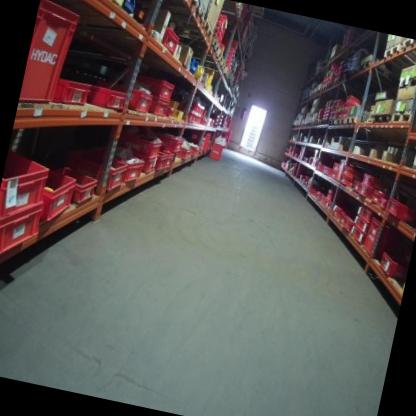pallet: (389, 107, 416, 133), (395, 71, 416, 100), (200, 17, 215, 43), (383, 40, 401, 61), (401, 37, 416, 52), (343, 113, 358, 127), (210, 37, 221, 54), (359, 59, 372, 73), (216, 50, 224, 64), (335, 117, 345, 126), (219, 60, 226, 72), (327, 118, 336, 127), (332, 77, 339, 88), (320, 118, 328, 126), (325, 82, 332, 91), (314, 88, 320, 98), (315, 119, 321, 127), (320, 85, 326, 93)
small_load_carrier: (19, 0, 85, 109), (0, 141, 60, 230), (0, 192, 51, 267), (67, 142, 134, 193), (40, 162, 84, 227), (55, 163, 103, 208), (54, 69, 95, 113), (85, 79, 135, 113), (130, 70, 179, 104), (360, 214, 394, 259), (120, 128, 165, 160), (115, 81, 154, 116), (372, 246, 408, 283), (119, 151, 150, 189), (150, 125, 185, 157), (383, 195, 416, 225), (158, 26, 182, 58), (144, 99, 173, 122), (359, 170, 387, 190), (209, 141, 230, 163), (341, 162, 365, 179), (347, 225, 366, 246), (151, 150, 168, 173), (356, 184, 379, 200), (357, 205, 376, 223), (352, 214, 371, 232), (336, 173, 354, 190), (143, 156, 158, 176), (376, 194, 392, 211), (161, 151, 175, 169), (179, 148, 193, 165), (189, 141, 201, 159), (333, 204, 347, 219), (350, 179, 363, 195), (340, 215, 353, 231), (372, 190, 386, 204)
